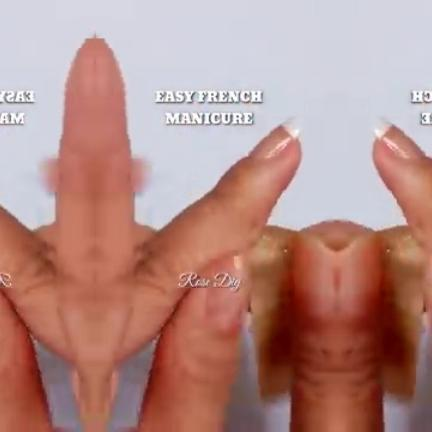Nail: (246, 115, 300, 160), (373, 115, 427, 160)
